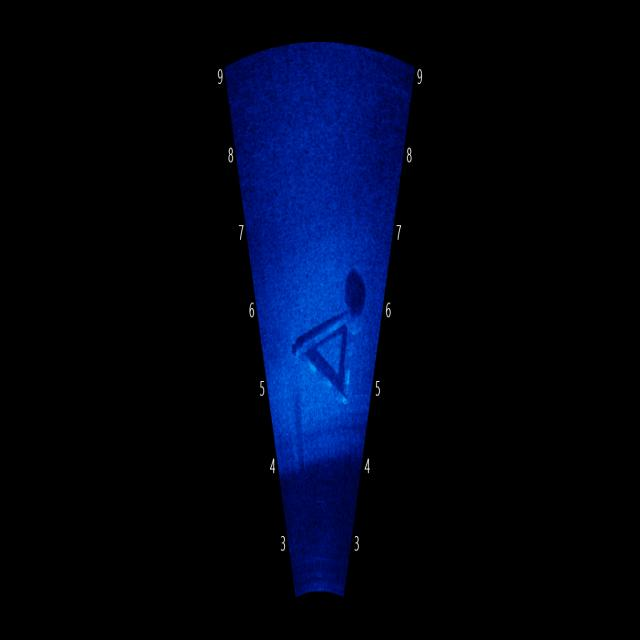triangle: (294, 304, 360, 407)
